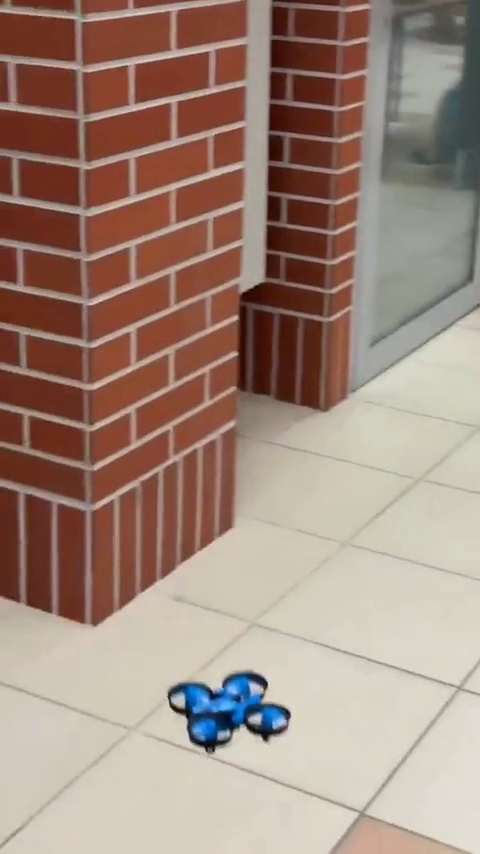drone: (167, 680, 292, 755)
